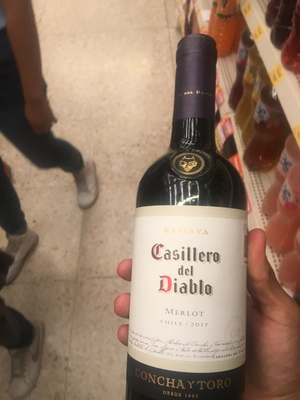casillero del diablo merlot: (122, 32, 260, 400)
